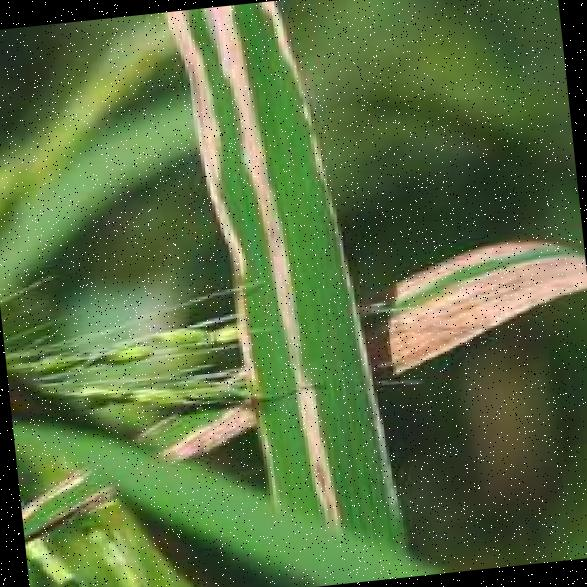Bacteria_Leaf_Blight: (154, 0, 412, 547)
